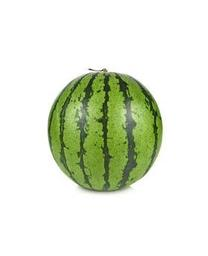watermelon: (44, 69, 165, 195)
